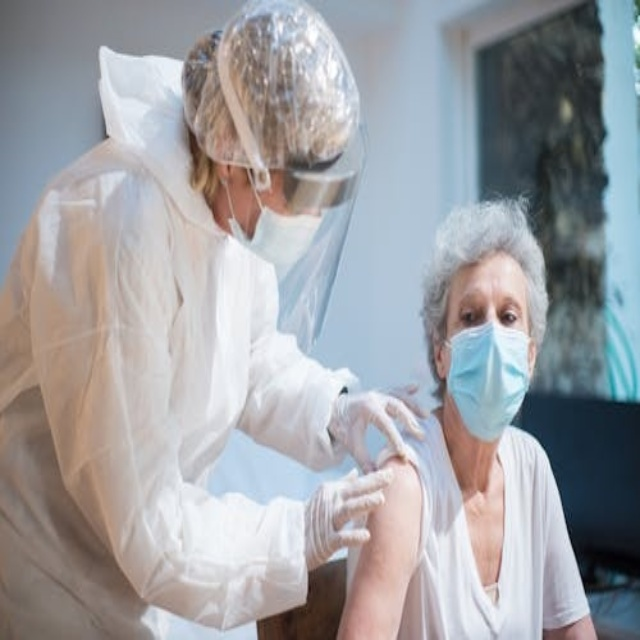Gafas: (230, 128, 364, 223)
Guantes: (321, 356, 425, 494), (298, 445, 396, 577)
Mascara: (444, 318, 533, 441), (225, 167, 326, 274)
Sin_gafas: (451, 286, 530, 343)
